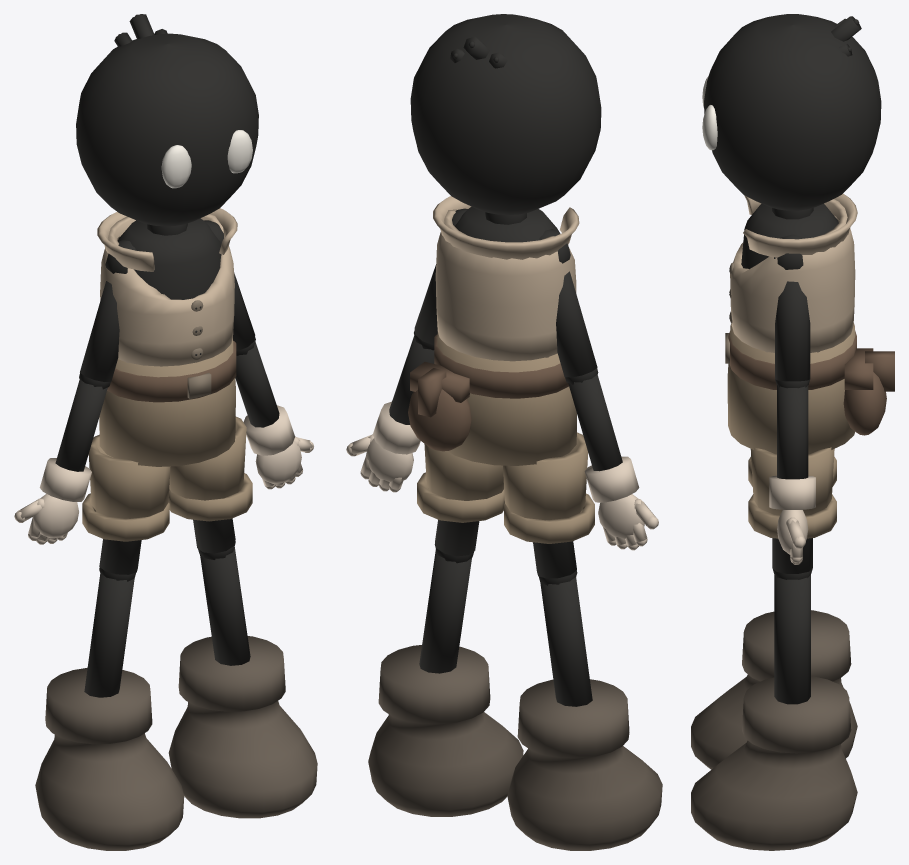
The model's file is traveler_body.glb.
The picture shows the model from 3 angles, left to right: view 1: azimuth 30°, elevation 25°; view 2: azimuth 150°, elevation 25°; view 3: azimuth 270°, elevation 25°; orthographic projection. The views are drawn at different scales.
Parts seen in each view (by area): view 1: TravelerBody; view 2: TravelerBody; view 3: TravelerBody.
Part boxes in pixels (left/top/right/bottom): TravelerBody: left=14, top=14, right=317, bottom=850; TravelerBody: left=346, top=14, right=662, bottom=850; TravelerBody: left=691, top=14, right=894, bottom=850.
Bounding box in the file's own units: 0.5335 × 1.32 × 0.313.
